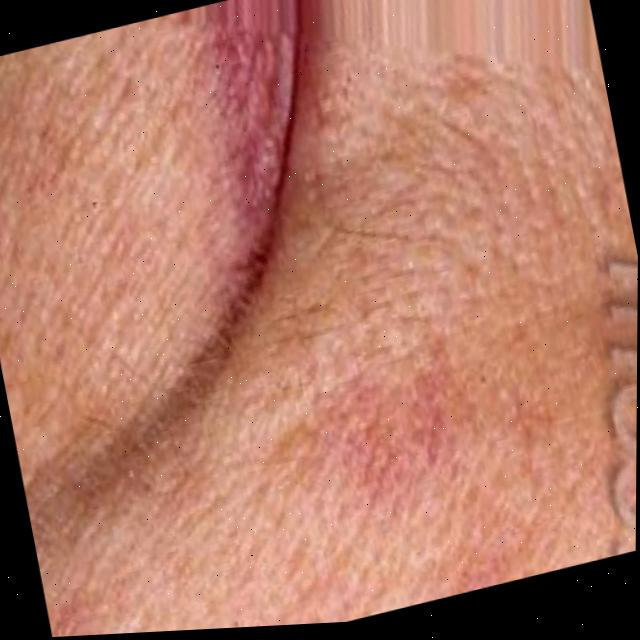Rosacea: (322, 381, 446, 498)
